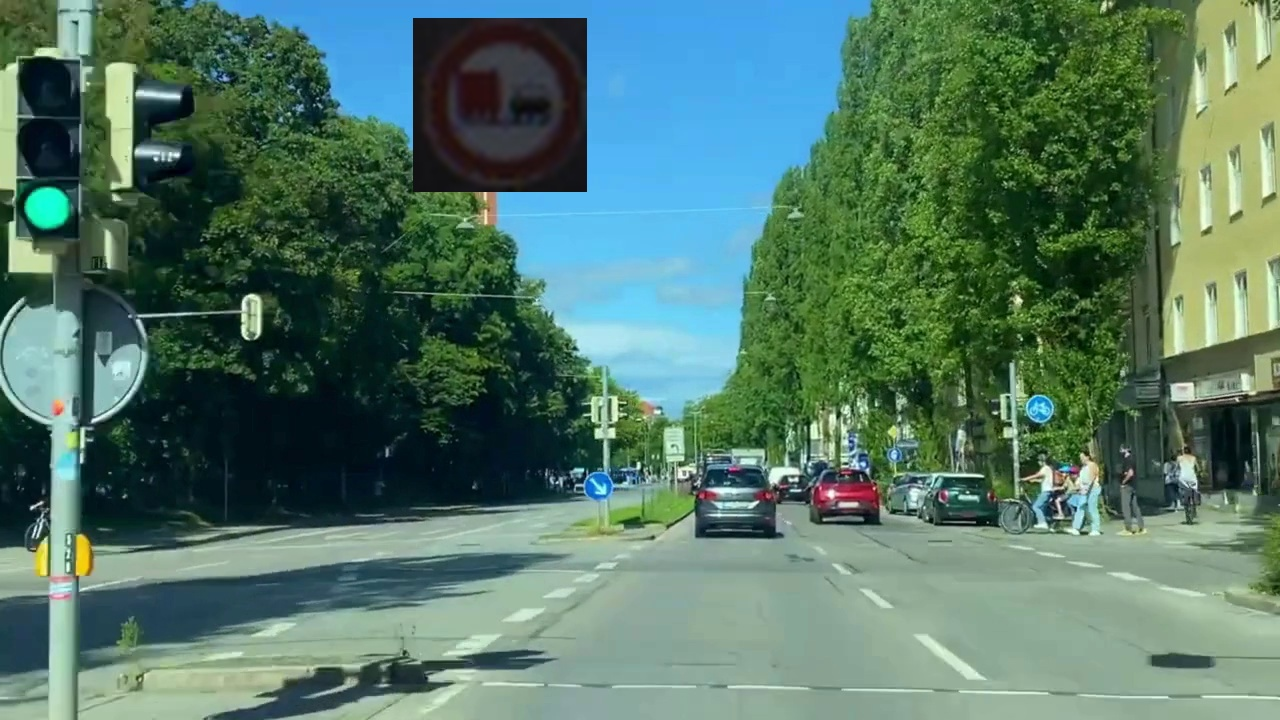No pass >3.5t: (413, 18, 587, 192)
